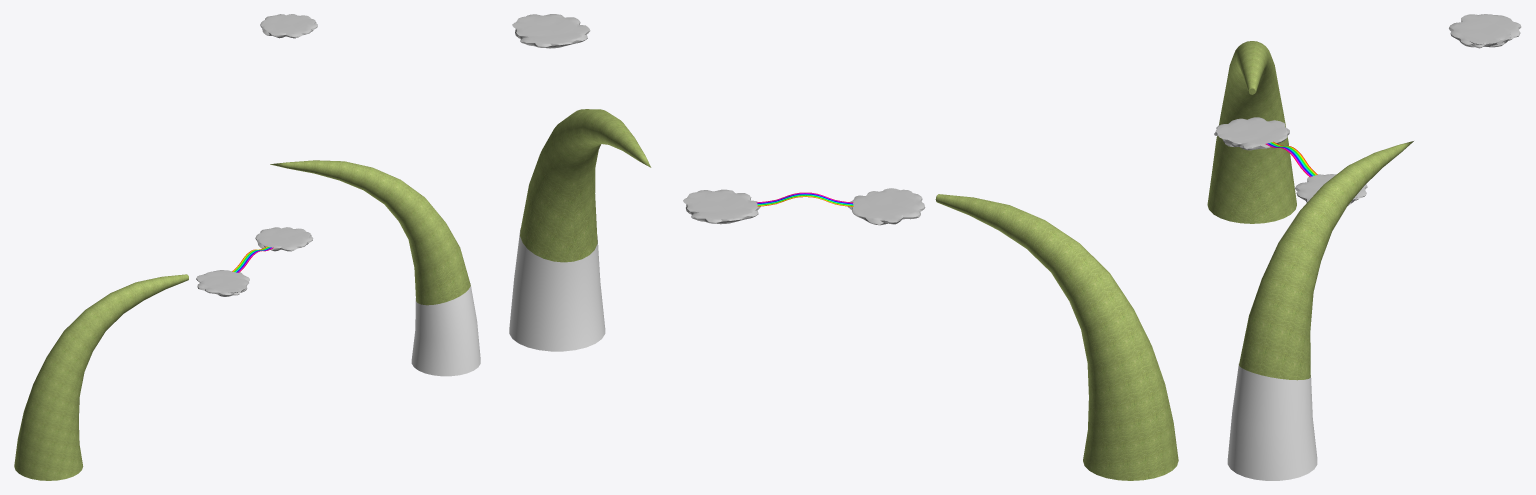
Rendered from CloudStage.dae.
3 views of the same model, side by side, from view 1: azimuth 30°, elevation 25°; view 2: azimuth 150°, elevation 25°; view 3: azimuth 270°, elevation 25° (orthographic). The views are drawn at different scales.
Parts seen in each view (by area): view 1: Beanstalk1, Beanstalk2, Beanstalk2Fade, Cloud3, Cloud1, Cloud2; view 2: Beanstalk1, Beanstalk2, Beanstalk2Fade, Cloud3, Cloud1, Cloud2; view 3: Beanstalk2, Beanstalk1, Beanstalk2Fade, Cloud3, Cloud1, Cloud2, Rainbow1.
Part boxes in pixels (bbox=[...]): Beanstalk1: bbox=[14, 274, 188, 480]; Beanstalk2: bbox=[270, 160, 470, 305]; Beanstalk2Fade: bbox=[411, 283, 480, 376]; Cloud3: bbox=[260, 14, 317, 38]; Cloud1: bbox=[196, 270, 249, 296]; Cloud2: bbox=[255, 227, 313, 251]; Beanstalk1: bbox=[935, 194, 1178, 480]; Beanstalk2: bbox=[520, 109, 651, 262]; Beanstalk2Fade: bbox=[509, 228, 605, 351]; Cloud3: bbox=[512, 14, 590, 48]; Cloud1: bbox=[848, 188, 925, 225]; Cloud2: bbox=[683, 189, 760, 224]; Beanstalk2: bbox=[1239, 141, 1413, 380]; Beanstalk1: bbox=[1207, 41, 1296, 223]; Beanstalk2Fade: bbox=[1227, 363, 1317, 480]; Cloud3: bbox=[1449, 14, 1521, 48]; Cloud1: bbox=[1214, 117, 1289, 150]; Cloud2: bbox=[1295, 174, 1367, 205]; Rainbow1: bbox=[1265, 141, 1317, 177].
Size of the model in its own units: 6228 by 2801 by 3793.
4 materials, 4 textured.
